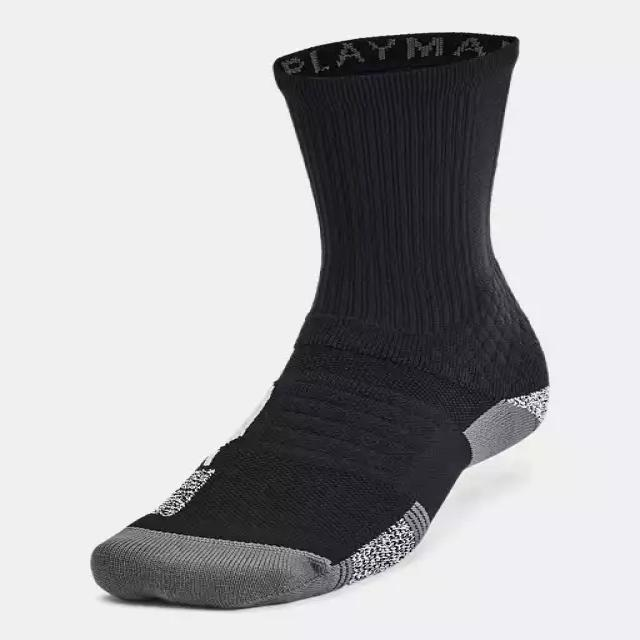sock: (90, 31, 550, 609)
